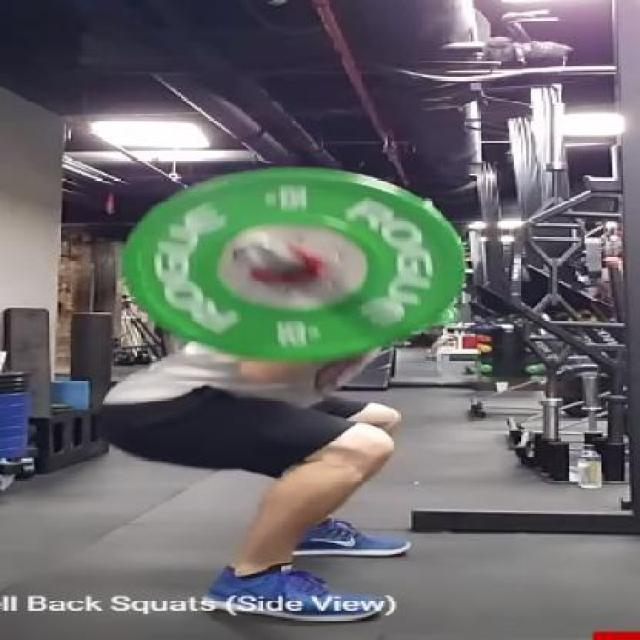barbell: (101, 163, 484, 369)
